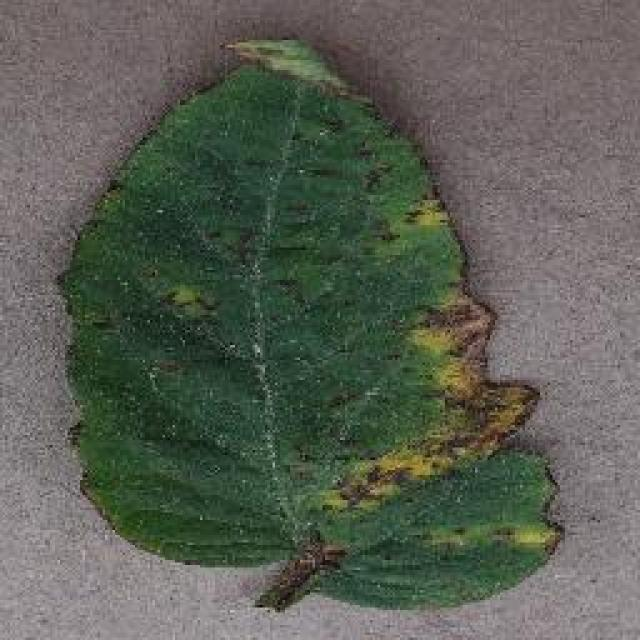Tomato___Bacterial_spot: (48, 29, 572, 617)
